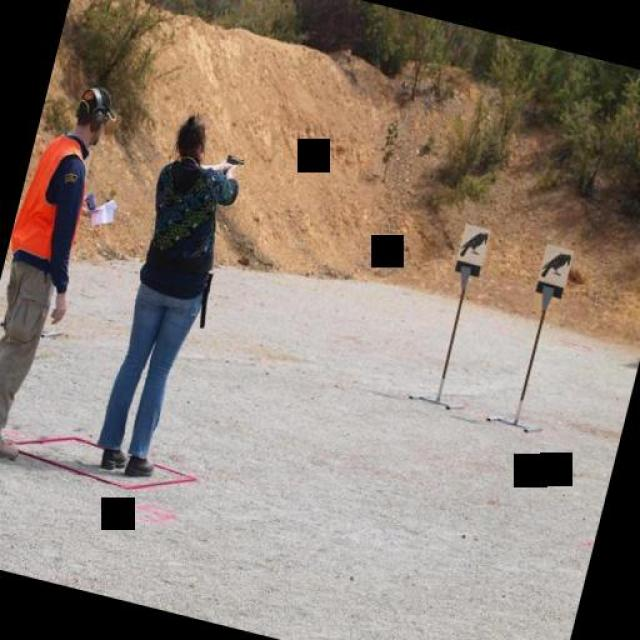gun: (220, 148, 249, 178)
